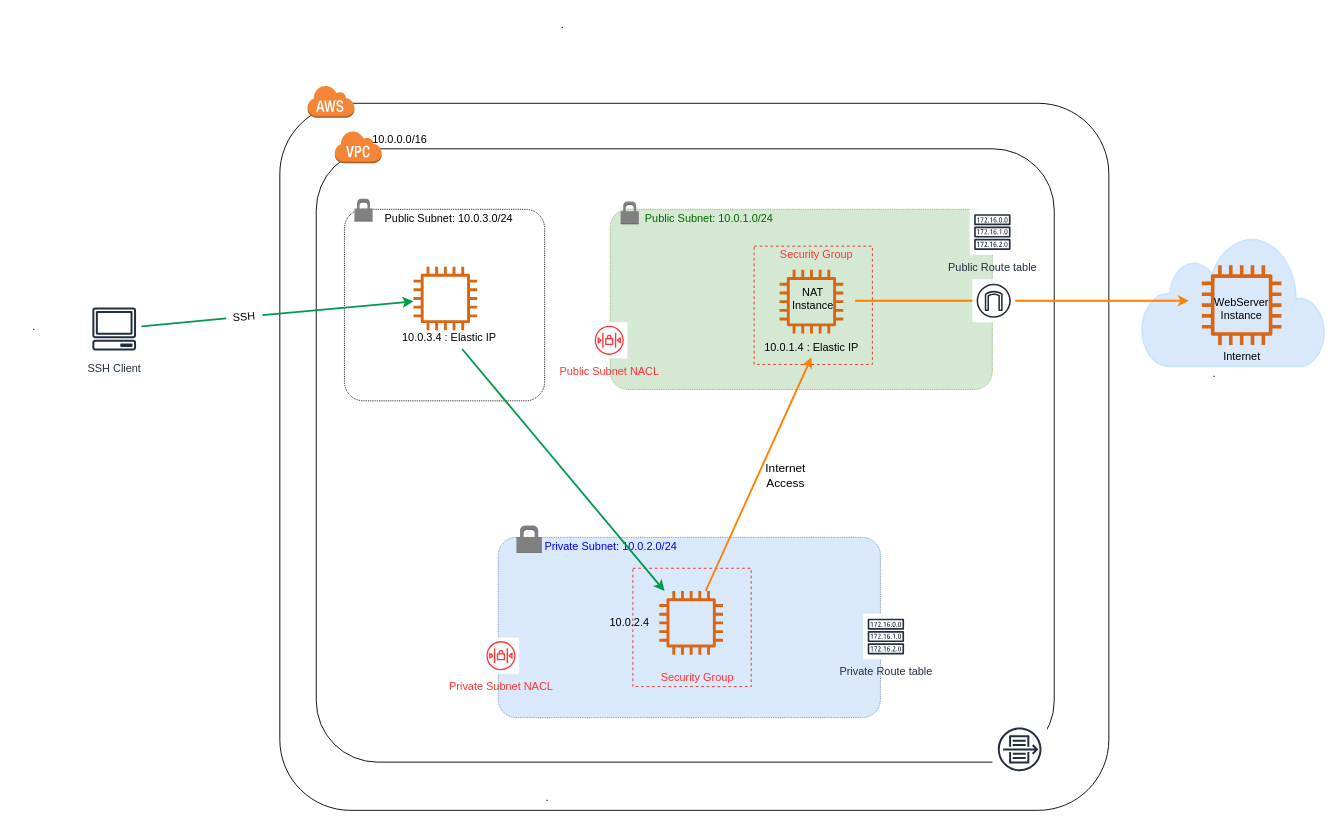
Image size: 1341x826. Some labels were removed from this diagram. Here are the shapes that lost their labels. From the top down, the centre of each, then its label:
At [445,298]: "Bastion".
At [993,300]: "Internet gateway".
At [691,622]: "Private Instance".
At [1019,749]: "Flow logs".
